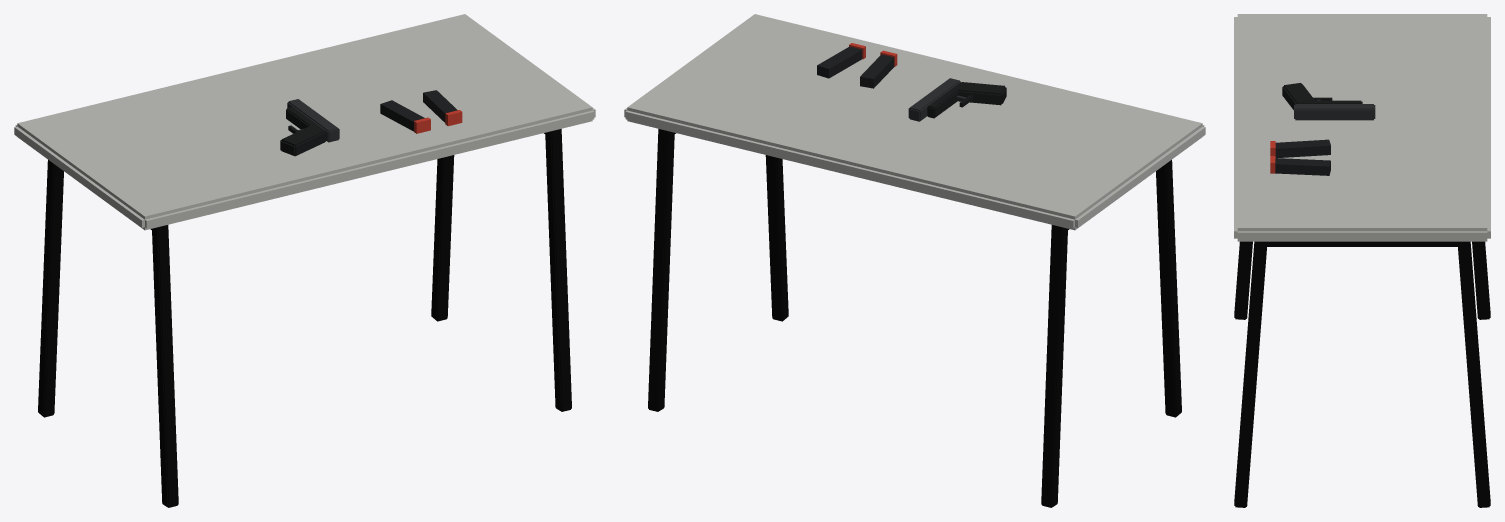
File: obj_table_start.glb
3 renders of one model, left to right at view 1: azimuth 30°, elevation 25°; view 2: azimuth 150°, elevation 25°; view 3: azimuth 270°, elevation 25°, orthographic. The views are drawn at different scales.
Visible parts, largest first — view 1: top, table_start_body, grip, slide, mag; view 2: top, table_start_body, grip, mag.001, slide, mag; view 3: top, table_start_body, slide, mag, mag.001, grip.
Part boxes in pixels (bbox=[...]): top: bbox=[14, 14, 595, 230]; table_start_body: bbox=[38, 129, 571, 507]; grip: bbox=[280, 125, 326, 156]; slide: bbox=[287, 99, 339, 142]; mag: bbox=[380, 100, 424, 131]; top: bbox=[624, 14, 1205, 230]; table_start_body: bbox=[648, 129, 1181, 507]; grip: bbox=[957, 82, 1006, 105]; mag.001: bbox=[817, 46, 862, 78]; slide: bbox=[908, 78, 960, 121]; mag: bbox=[860, 54, 894, 88]; top: bbox=[1234, 14, 1490, 241]; table_start_body: bbox=[1234, 241, 1490, 507]; slide: bbox=[1294, 104, 1375, 120]; mag: bbox=[1275, 139, 1330, 157]; mag.001: bbox=[1275, 158, 1330, 175]; grip: bbox=[1282, 83, 1314, 109].
Size of the model in its own units: 1.2 by 0.781 by 0.6.
6 materials, 1 textured.
